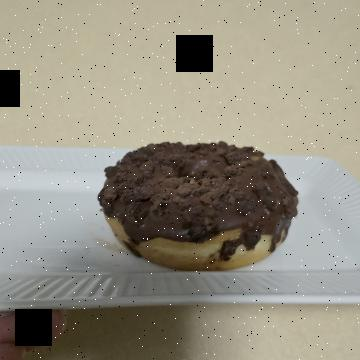doughnut: (126, 55, 280, 284)
